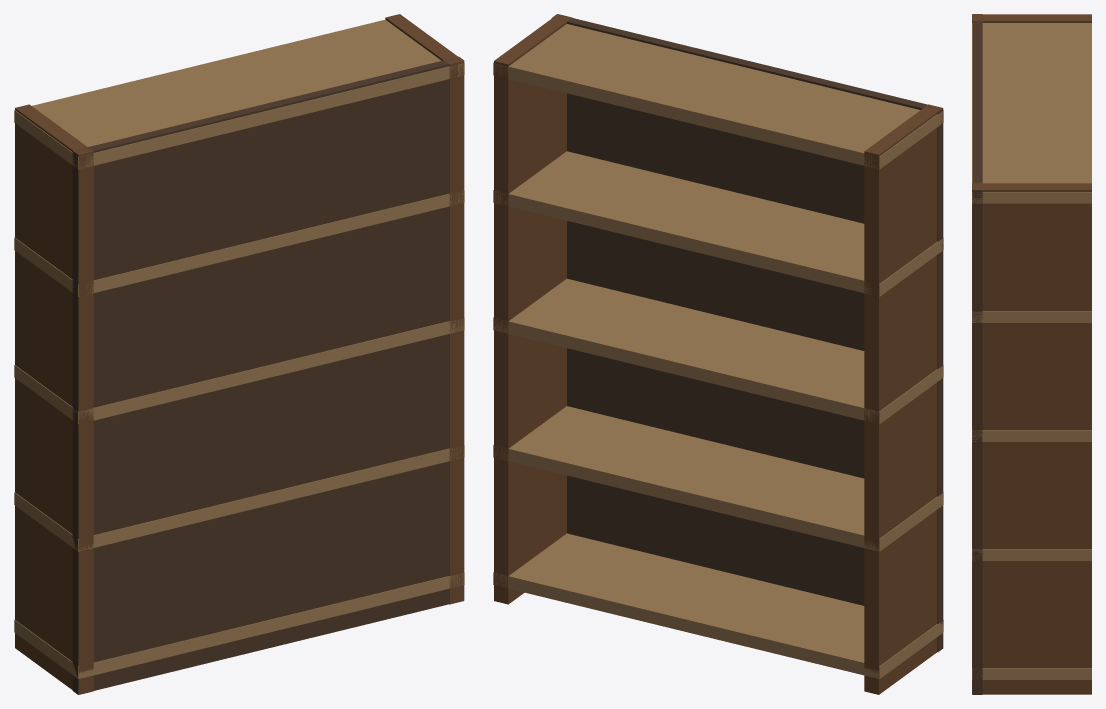
Rendered from storage_rack.glb.
3 renders of one model, left to right at view 1: azimuth 30°, elevation 25°; view 2: azimuth 150°, elevation 25°; view 3: azimuth 270°, elevation 25°, orthographic. The views are drawn at different scales.
Visible parts, largest first — view 1: storage_rack; view 2: storage_rack; view 3: storage_rack.
Boxes of the visible parts, box(x1,y1,x2,y2) form: storage_rack: box(14, 14, 464, 694); storage_rack: box(493, 14, 943, 694); storage_rack: box(972, 14, 1091, 694).
Size of the model in its own units: 1.46 by 1.95 by 0.42.
